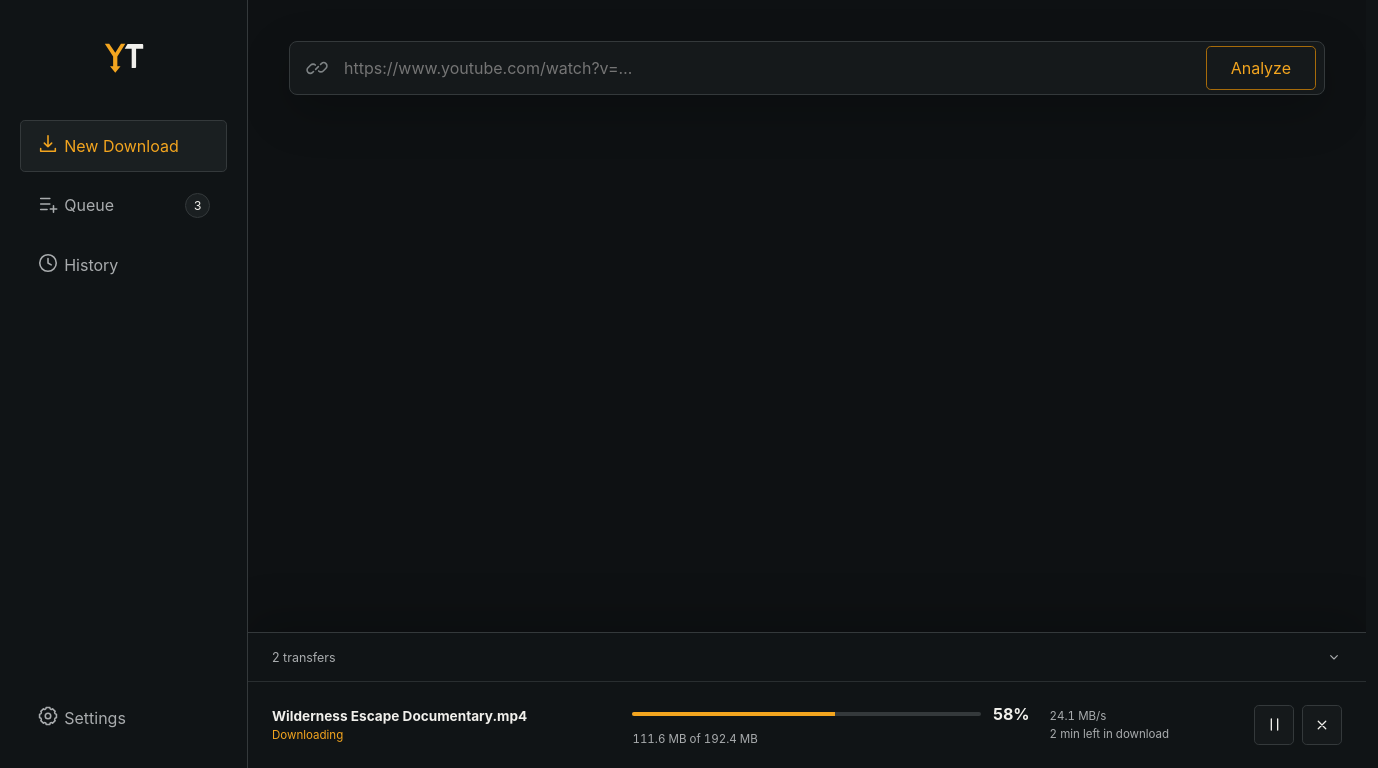
Test case: desktop workspace › keeps native command failures actionable and does not optimistically remove history
Click the button "History" at (124, 265), box [20, 239, 227, 291]
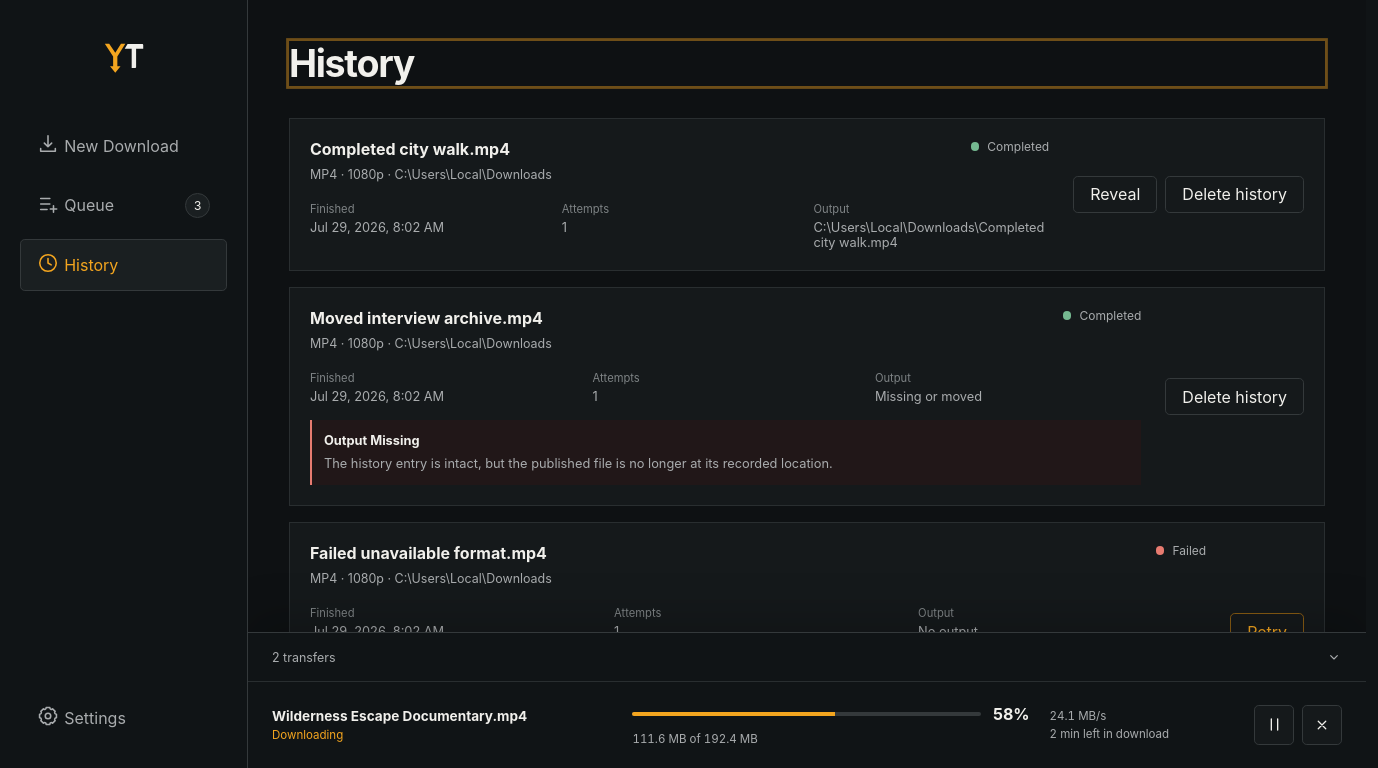
Click the button "Reveal" at (1115, 194), box [1073, 176, 1157, 213]
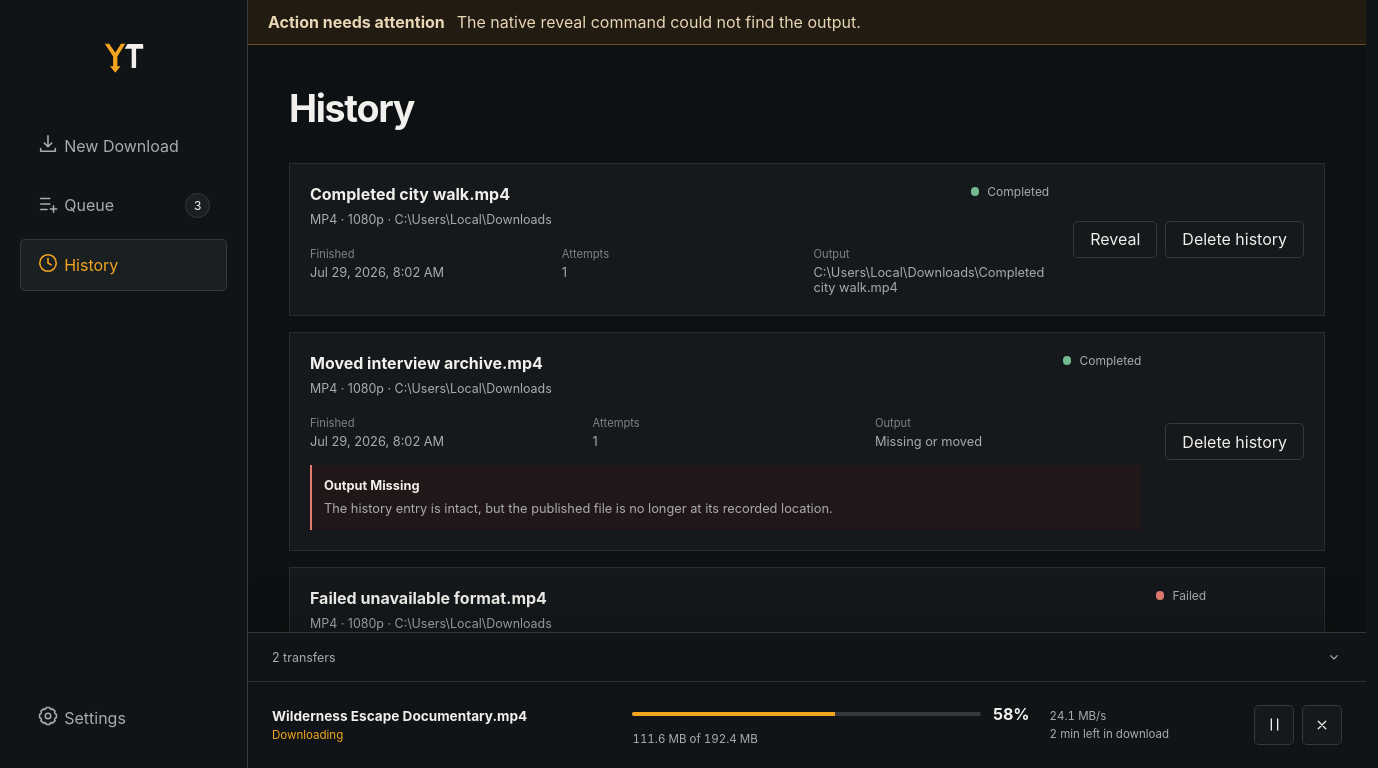
Expected: the heading "Completed city walk.mp4" is shown, [310, 184, 510, 204]
Expected: the message "Action needs attention The native reveal command could not find the output." is shown, [248, 0, 1366, 45]
